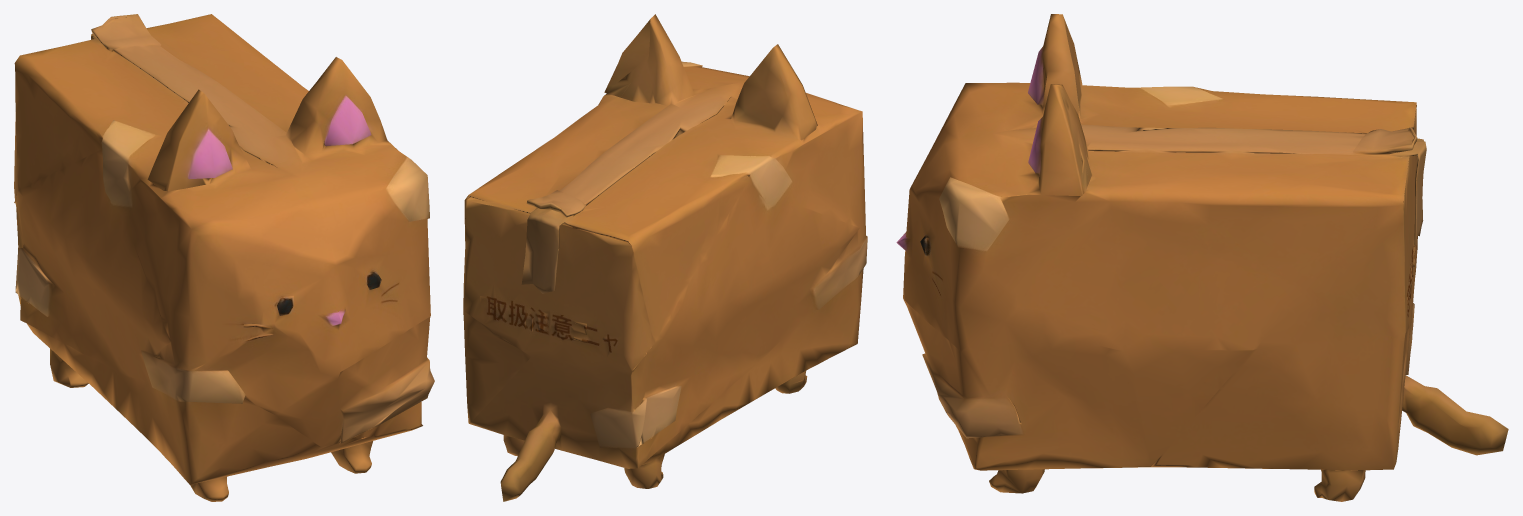
The model's file is nyanisyarud-cardboard-cat.glb.
The picture shows the model from 3 angles, left to right: view 1: azimuth 30°, elevation 25°; view 2: azimuth 150°, elevation 25°; view 3: azimuth 270°, elevation 25°; orthographic projection. The views are drawn at different scales.
Parts seen in each view (by area): view 1: tripo_node_a9c732bf-203b-4a87-a1fa-6214f4fdcf06; view 2: tripo_node_a9c732bf-203b-4a87-a1fa-6214f4fdcf06; view 3: tripo_node_a9c732bf-203b-4a87-a1fa-6214f4fdcf06.
Part boxes in pixels (x1,y1,x2,y2): tripo_node_a9c732bf-203b-4a87-a1fa-6214f4fdcf06: (14, 14, 434, 501); tripo_node_a9c732bf-203b-4a87-a1fa-6214f4fdcf06: (463, 14, 867, 501); tripo_node_a9c732bf-203b-4a87-a1fa-6214f4fdcf06: (896, 14, 1508, 501).
Size of the model in its own units: 0.4896 by 0.7194 by 0.9819.
Materials: 1 (1 with a texture image).
